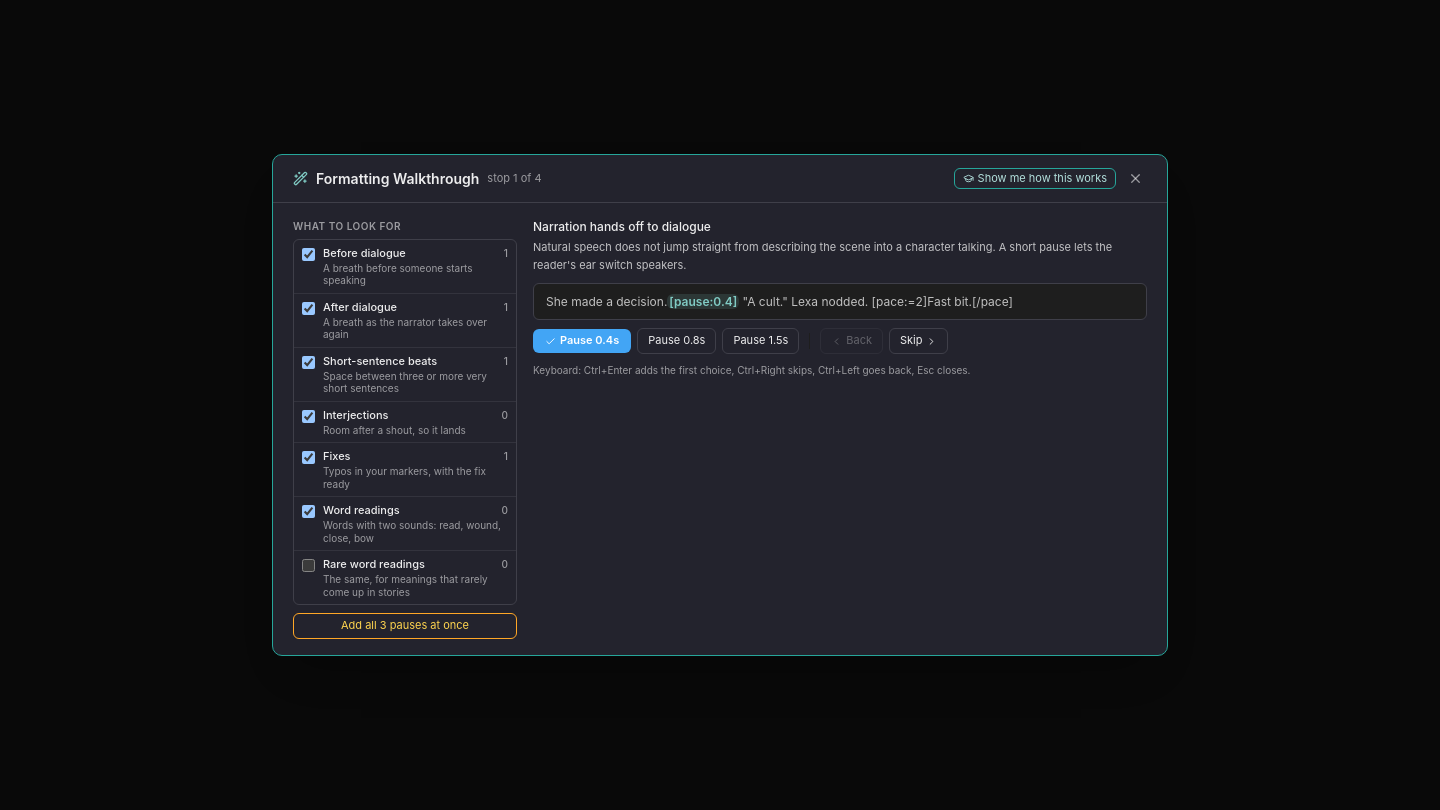
Test: InsertWalkthrough › Apply commits the default proposal as a buffer edit
What coordinates should you click on to do the following:
click the button "Pause 0.4s"
I would click on:
 (582, 341)
Its box is [533, 329, 631, 353].
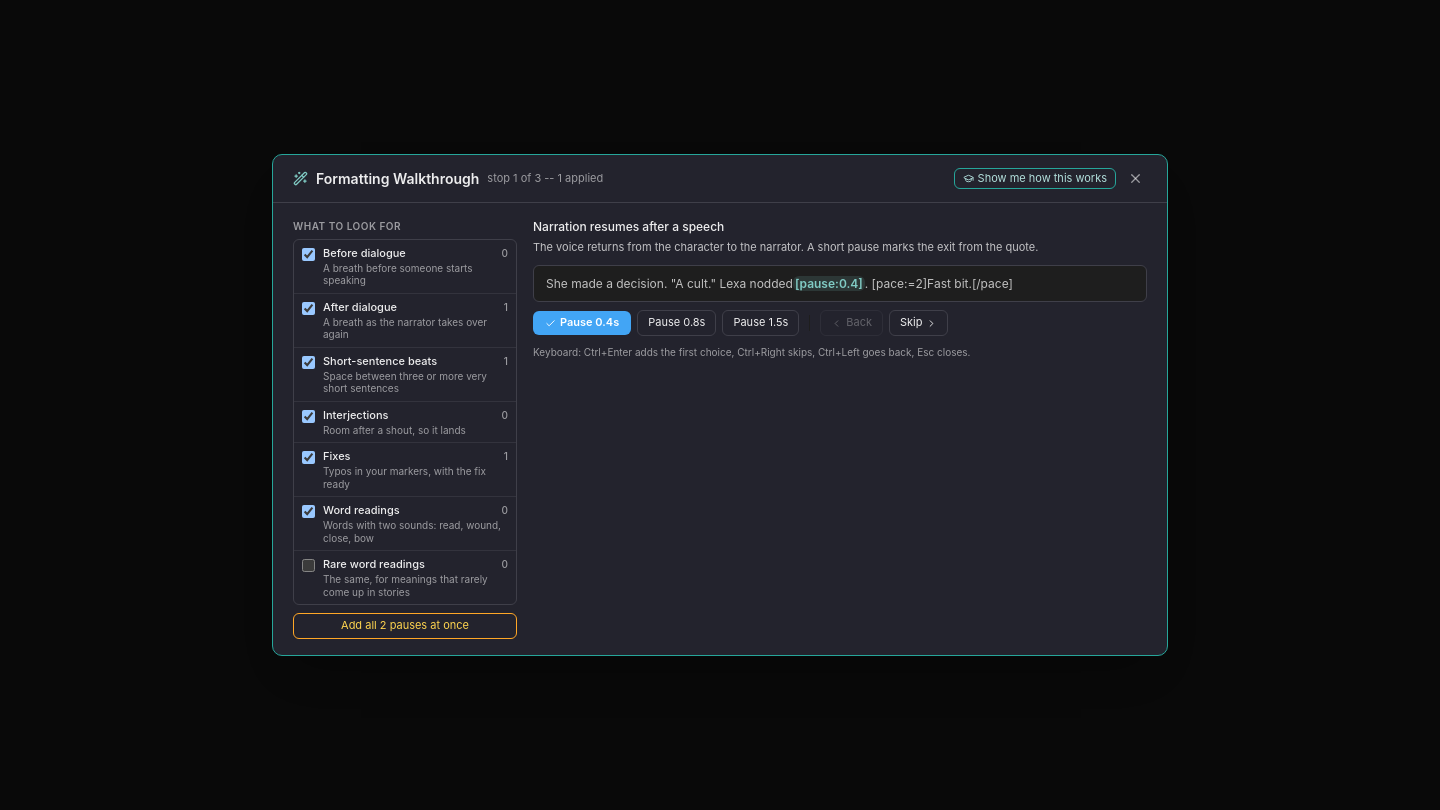
Check: the text "stop 1 of 3 -- 1 applied" is shown, box [487, 170, 603, 184]
